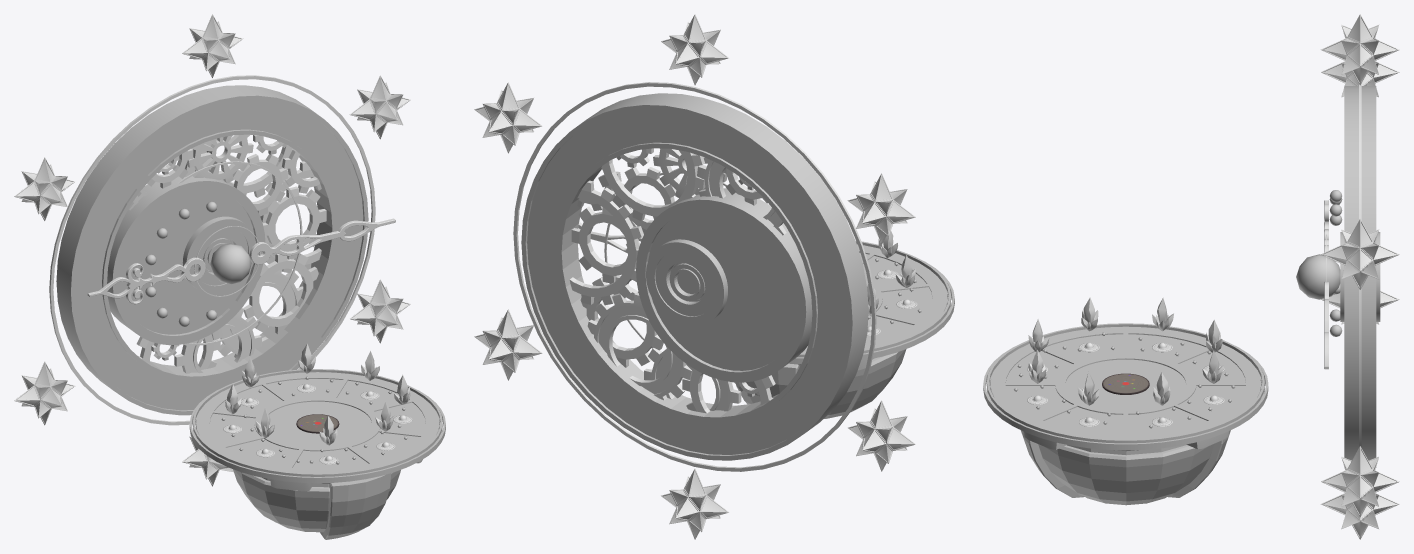
Rendered from 3rd_floor.fbx.
3 renders of one model, left to right at view 1: azimuth 30°, elevation 25°; view 2: azimuth 150°, elevation 25°; view 3: azimuth 270°, elevation 25°, orthographic. The views are drawn at different scales.
Parts seen in each view (by area): view 1: Cylinder006, Cylinder003 (×2), Object019, Cylinder013, Object042, Box032, Box034, Object043, Box029, Star_high005, Star_high004, Star_high001 (+14 smaller); view 2: Cylinder006, Cylinder013, Cylinder003, Box031, Object019, Box027, Star_high, Star_high004, Star_high001, Star_high002, Star_high005, Star_high003 (+10 smaller); view 3: Cylinder003 (×2), Cylinder006, Object019, Object042, Object043, Star_high004, Star_high001, Star_high, Object093, Star_high003, Cylinder013, Star_high002.
Boxes of the visible parts, <box> form: Cylinder006: <box>56,85,368,415</box>; Cylinder003 (×2): <box>196,372,439,473</box>; Object019: <box>233,459,422,539</box>; Cylinder013: <box>49,75,375,425</box>; Object042: <box>193,369,442,483</box>; Box032: <box>243,253,318,334</box>; Box034: <box>187,134,253,183</box>; Object043: <box>189,386,445,482</box>; Box029: <box>262,186,326,259</box>; Star_high005: <box>14,361,74,425</box>; Star_high004: <box>350,279,410,343</box>; Star_high001: <box>349,75,410,139</box>; Cylinder006: <box>521,93,868,460</box>; Cylinder013: <box>513,82,876,471</box>; Cylinder003: <box>801,244,947,353</box>; Box031: <box>587,292,692,400</box>; Object019: <box>734,349,906,418</box>; Box027: <box>569,180,643,305</box>; Star_high: <box>661,14,728,85</box>; Star_high004: <box>474,309,542,380</box>; Star_high001: <box>474,82,542,153</box>; Star_high002: <box>847,173,915,244</box>; Star_high005: <box>848,400,915,471</box>; Star_high003: <box>661,468,728,539</box>; Cylinder003 (×2): <box>990,326,1261,439</box>; Cylinder006: <box>1340,86,1380,467</box>; Object019: <box>1020,430,1230,505</box>; Object042: <box>987,323,1264,450</box>; Object043: <box>983,343,1268,449</box>; Star_high004: <box>1321,446,1399,517</box>; Star_high001: <box>1321,219,1399,289</box>; Star_high: <box>1321,14,1399,85</box>; Object093: <box>1296,254,1340,299</box>; Star_high003: <box>1321,493,1399,539</box>; Cylinder013: <box>1326,84,1361,447</box>; Star_high002: <box>1321,61,1399,97</box>.
Bounding box in the file's own units: 2137 × 2431 × 1745.
